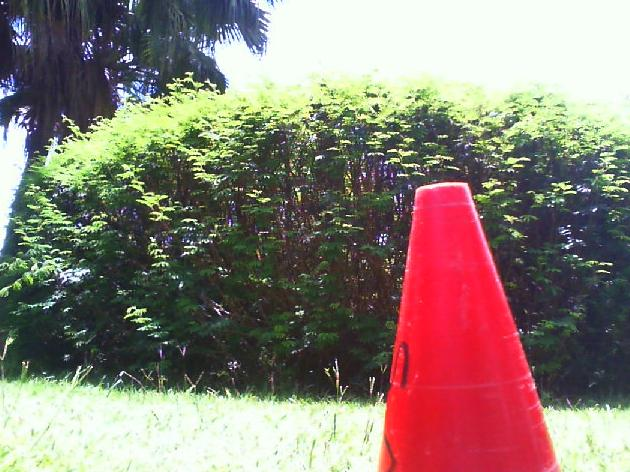0 cone: (377, 183, 565, 472)
